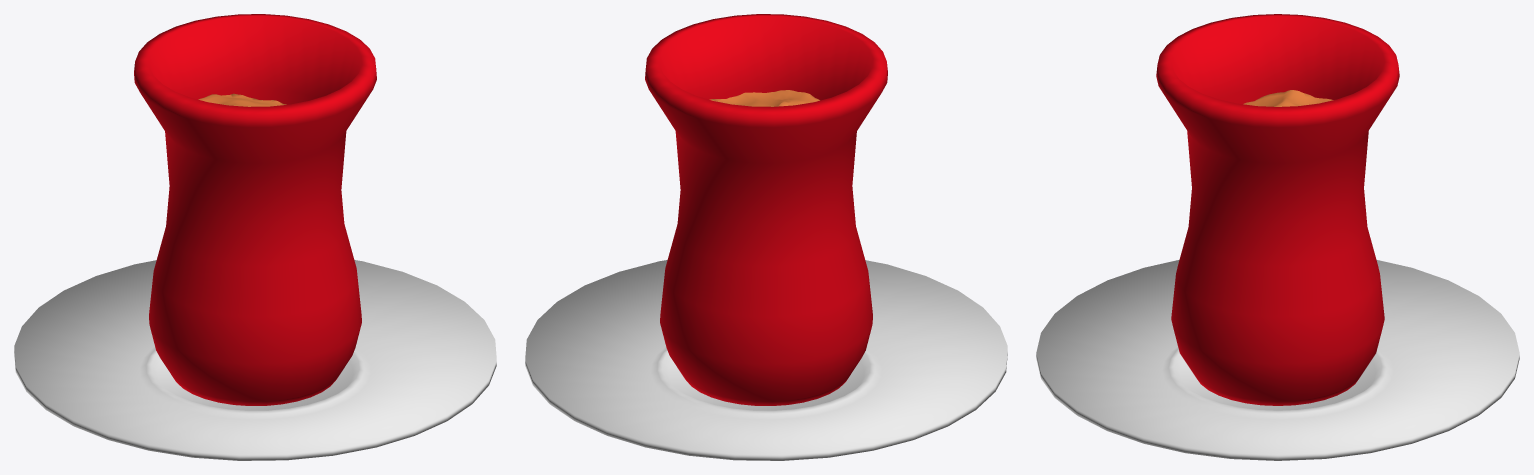
Rendered from glass_tea.glb.
3 renders of one model, left to right at view 1: azimuth 30°, elevation 25°; view 2: azimuth 150°, elevation 25°; view 3: azimuth 270°, elevation 25°, orthographic.
Visible parts, largest first — view 1: glass, glass1, tea; view 2: glass, glass1, tea; view 3: glass, glass1, tea.
Part boxes in pixels (x1=…): glass: x1=134, y1=14, x2=376, y2=405; glass1: x1=14, y1=260, x2=496, y2=460; tea: x1=198, y1=93, x2=286, y2=106; glass: x1=645, y1=14, x2=887, y2=405; glass1: x1=525, y1=260, x2=1007, y2=460; tea: x1=709, y1=90, x2=819, y2=106; glass: x1=1156, y1=14, x2=1399, y2=405; glass1: x1=1036, y1=259, x2=1519, y2=460; tea: x1=1243, y1=90, x2=1333, y2=106.
Bounding box in the file's own units: 5.62 × 4.08 × 5.62.
